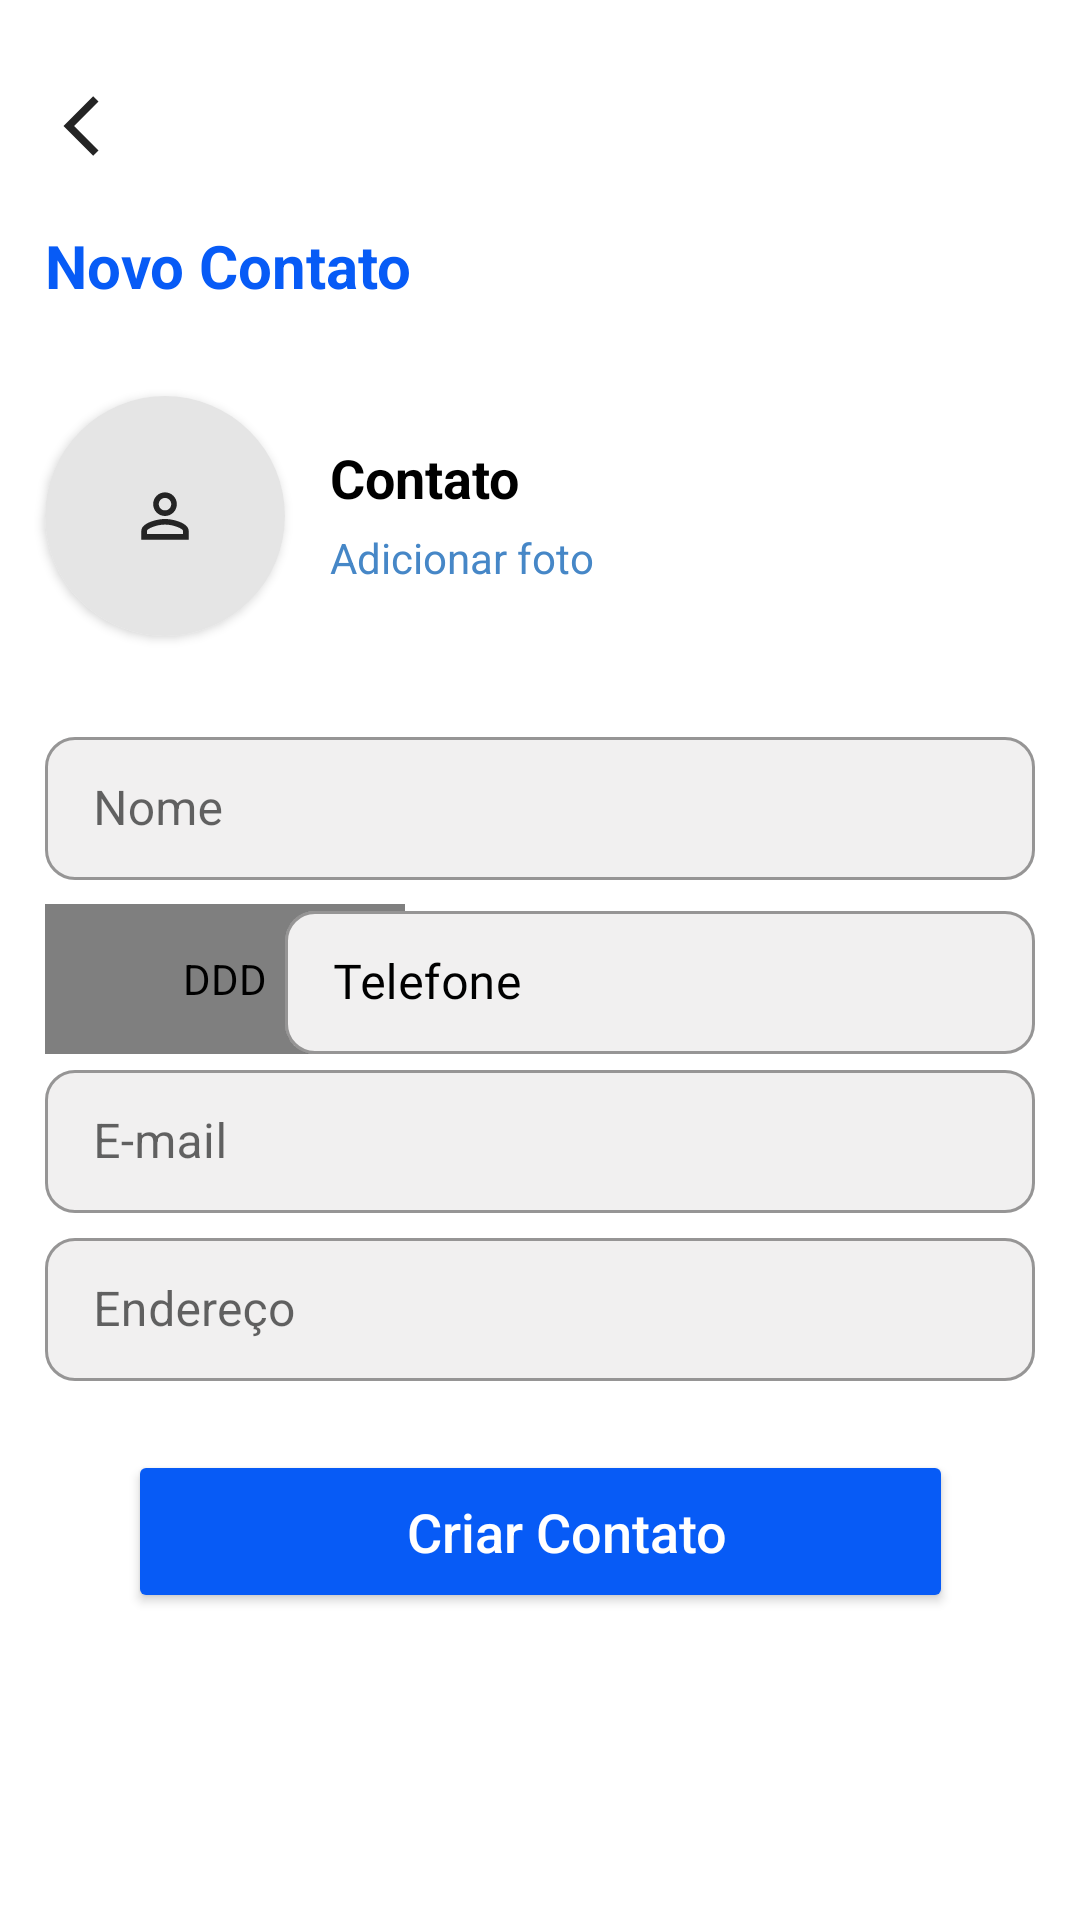

Icons on this 1080 × 1920 Android screen, each with the point to tap as (x,y):
back: (81,126)
contacts: (165,516)
